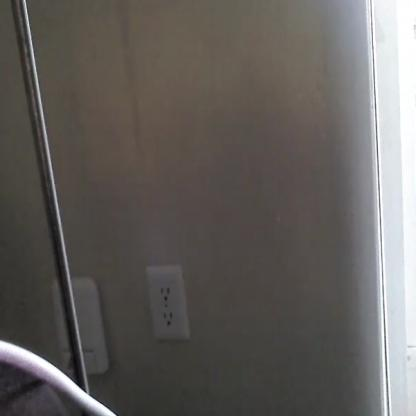OUTLET: (149, 264, 187, 339)
